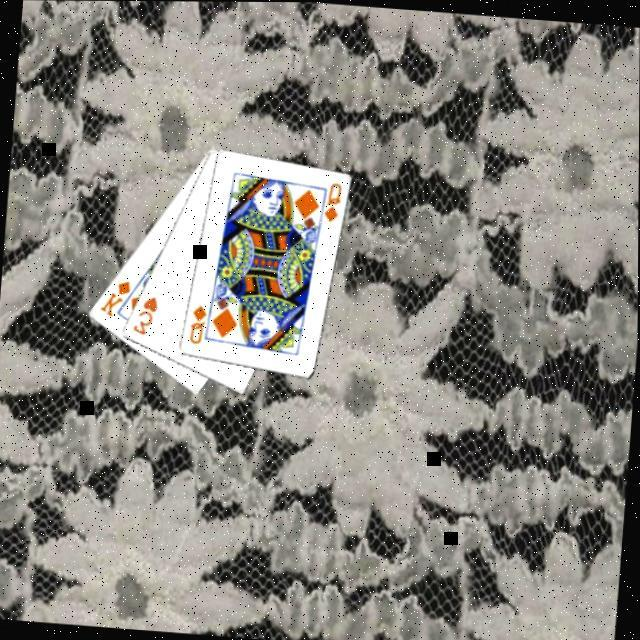3H: (130, 289, 161, 336)
KD: (98, 274, 135, 318)
QD: (321, 176, 345, 222), (186, 299, 210, 344)
